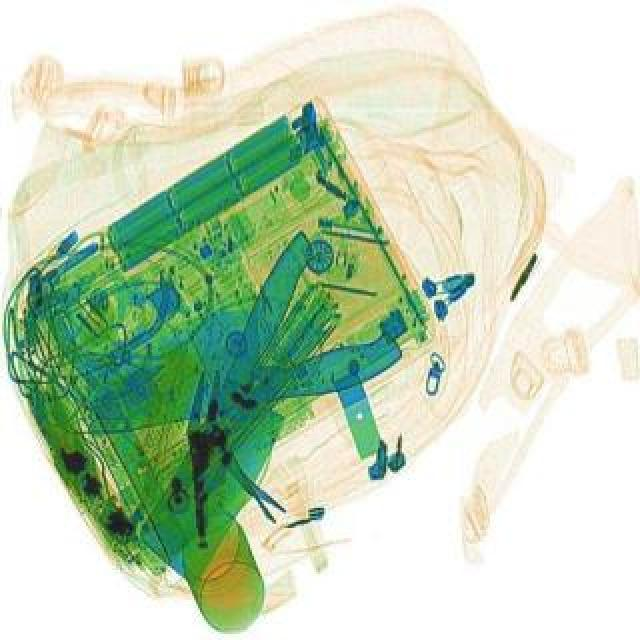knife: (122, 226, 370, 586), (68, 270, 408, 446)
